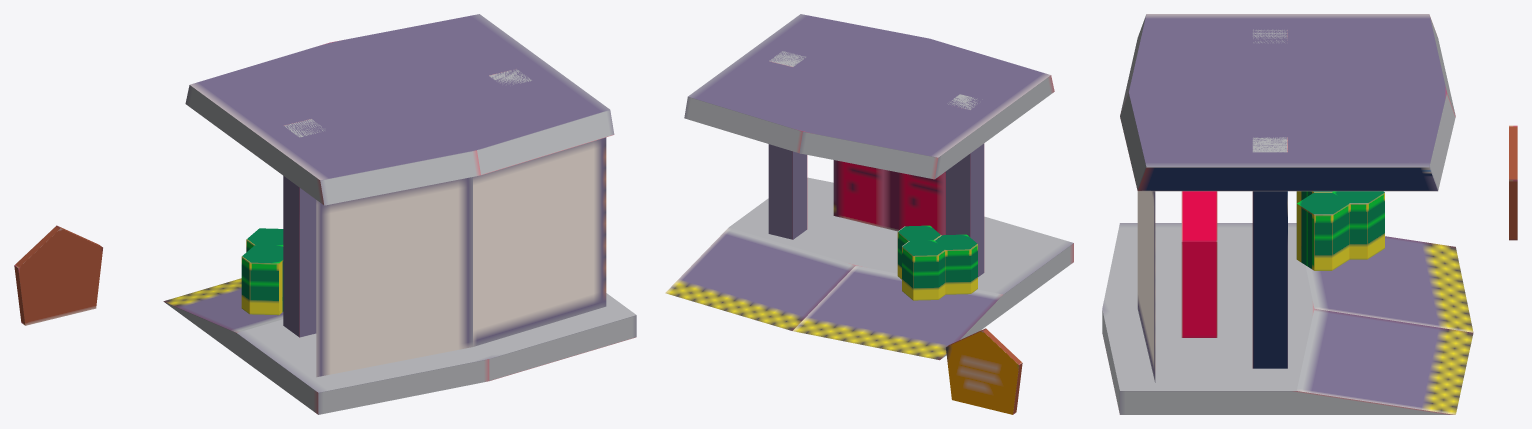
The model's file is workbench.gltf.
3 renders of one model, left to right at view 1: azimuth 30°, elevation 25°; view 2: azimuth 150°, elevation 25°; view 3: azimuth 270°, elevation 25°, orthographic. The views are drawn at different scales.
Size of the model in its own units: 15.5 by 8 by 11.75.
1 material, 1 textured.
